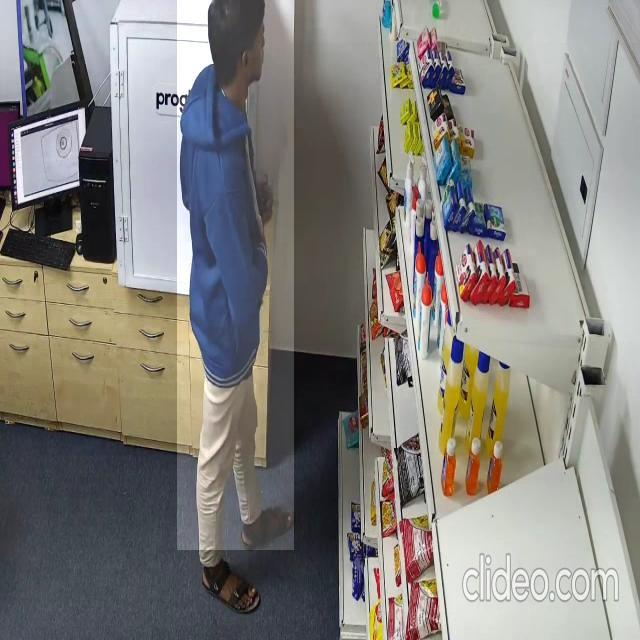Shoplifting: (177, 0, 294, 550)
